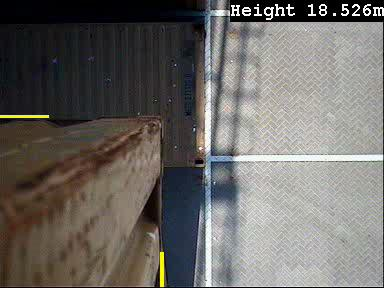groundmarker_2: (163, 217, 241, 272), (197, 153, 242, 208)
